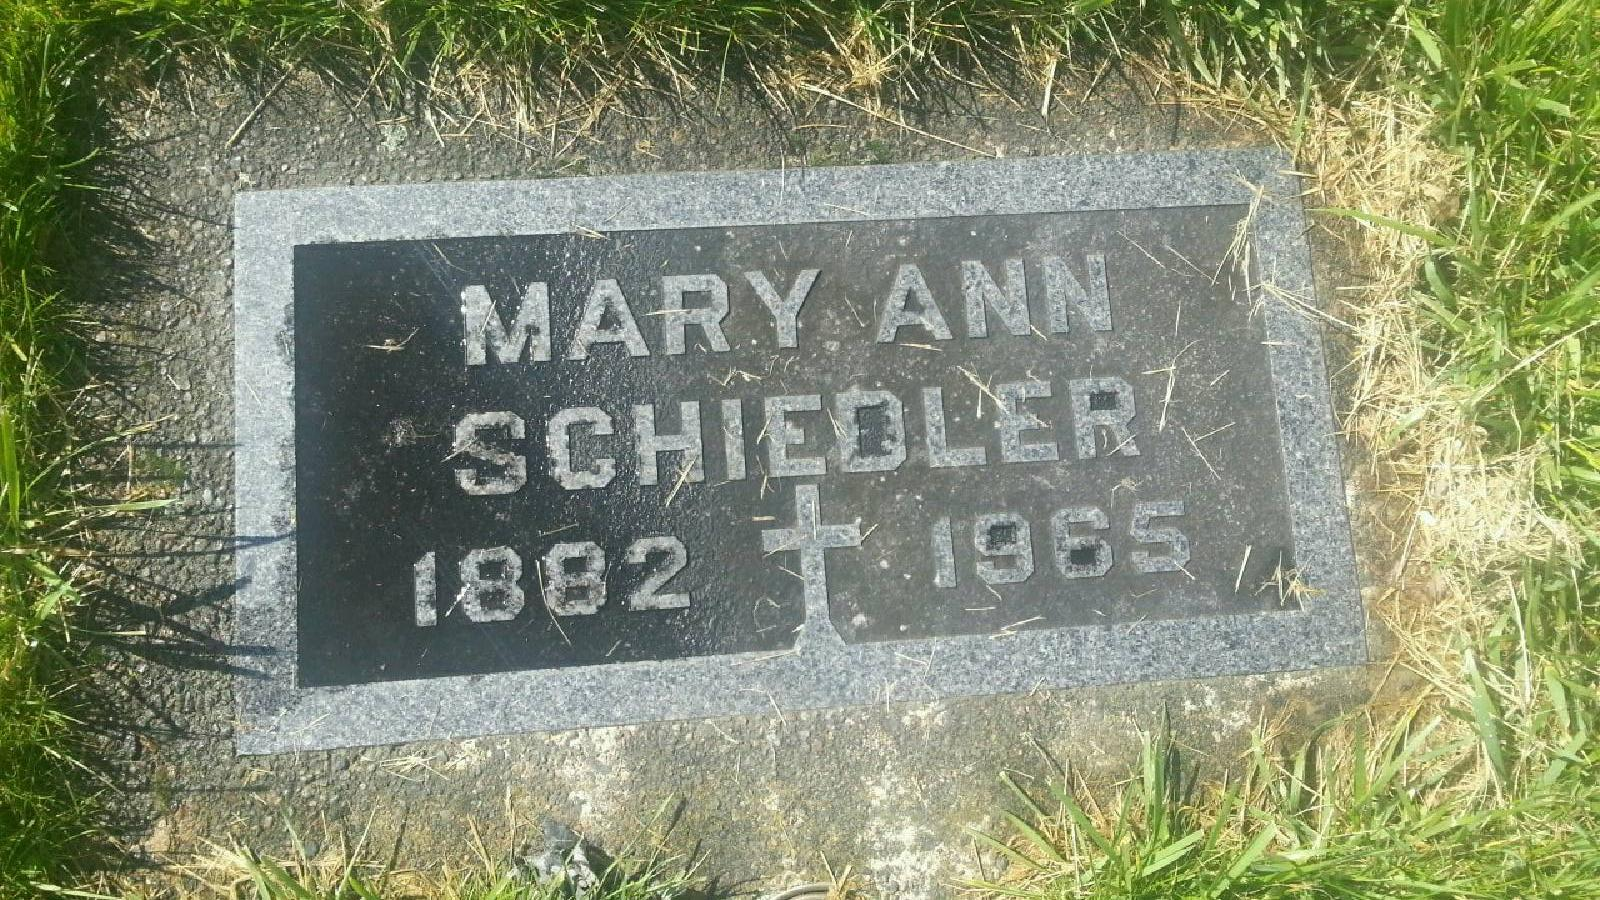flat: (84, 46, 1471, 826)
